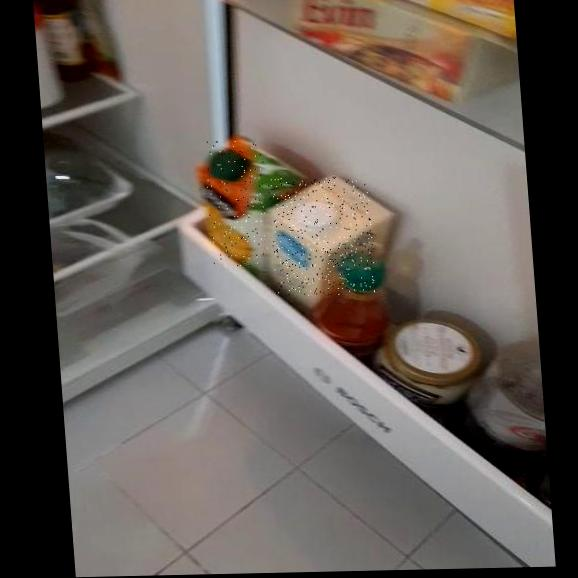juice: (203, 140, 271, 267)
milk: (268, 176, 376, 296)
